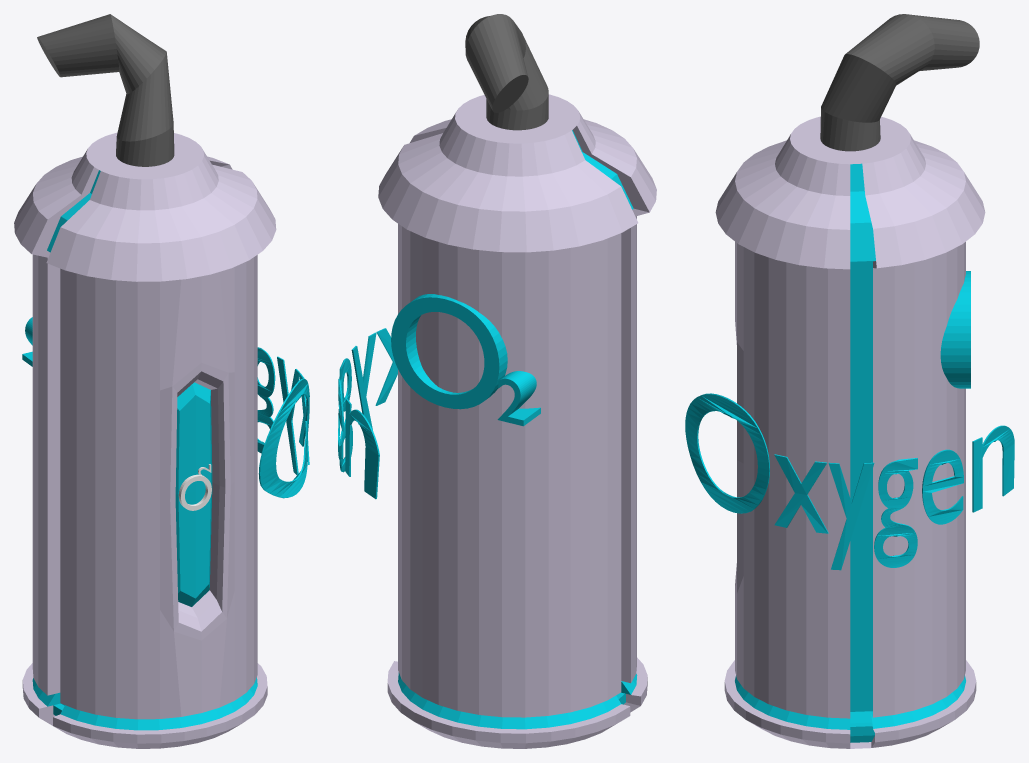
Rendered from oxygen.fbx.
3 renders of one model, left to right at view 1: azimuth 30°, elevation 25°; view 2: azimuth 150°, elevation 25°; view 3: azimuth 270°, elevation 25°, orthographic. The views are drawn at different scales.
Visible parts, largest first — view 1: Окружность.001, Текст.001; view 2: Окружность.001, Текст.001; view 3: Окружность.001, Текст.001.
Part boxes in pixels (x1=…): Окружность.001: x1=14, y1=14, x2=276, y2=748; Текст.001: x1=257, y1=347, x2=309, y2=498; Окружность.001: x1=378, y1=14, x2=656, y2=748; Текст.001: x1=338, y1=328, x2=397, y2=499; Окружность.001: x1=715, y1=14, x2=985, y2=748; Текст.001: x1=685, y1=393, x2=1014, y2=570.
Bounding box in the file's own units: 311 × 765 × 333.
